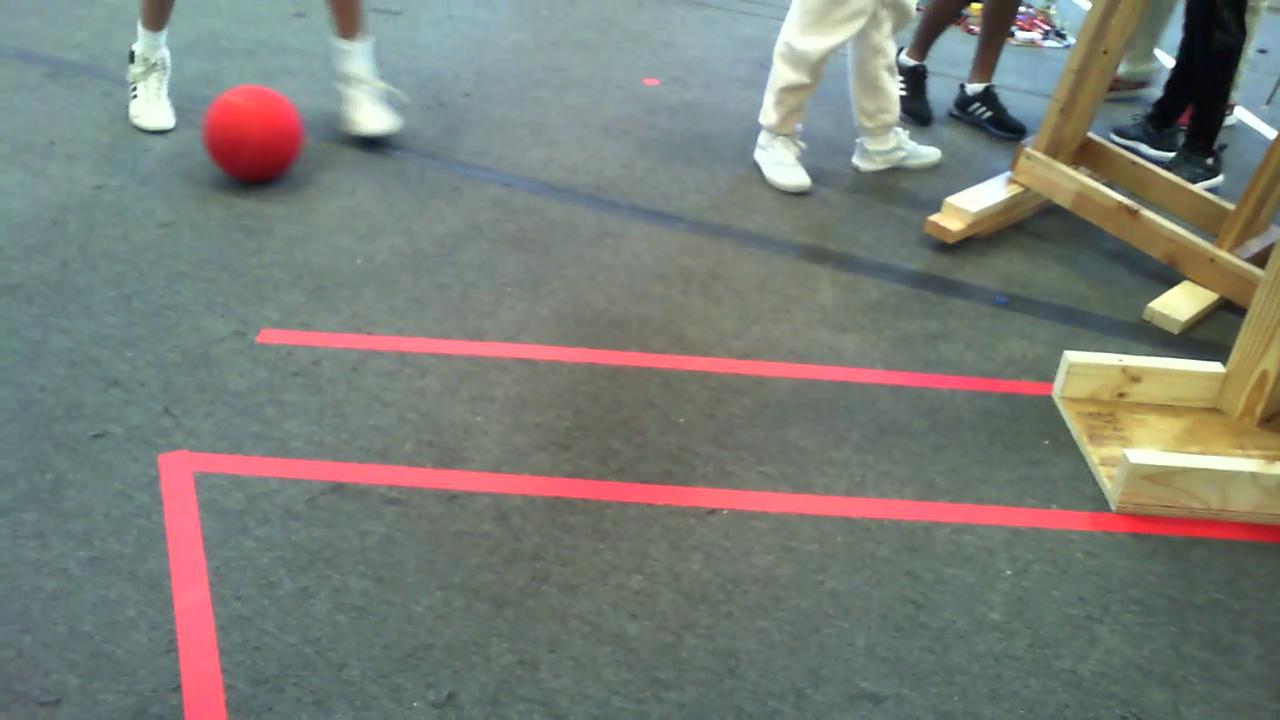Red_Ball: (194, 86, 304, 177)
